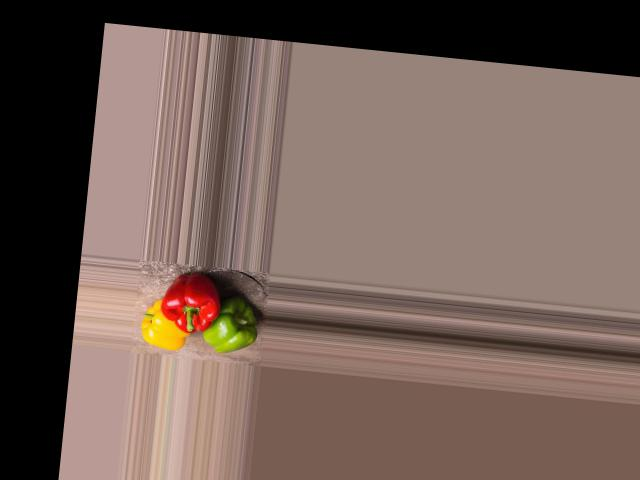bell_pepper: (139, 297, 190, 353)
